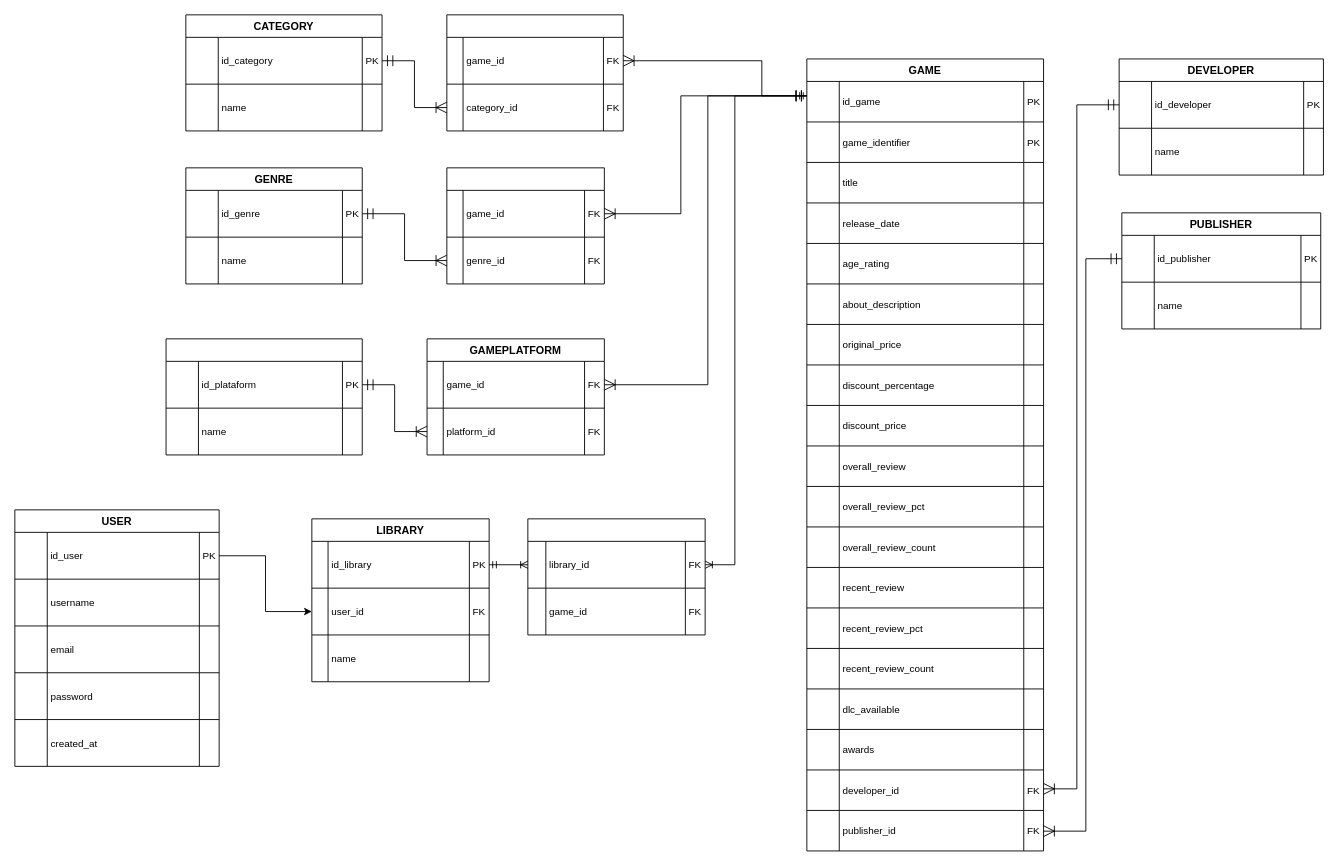
The diagram is 1338 pixels wide and 866 high, and some of its shapes have lost their labels. Here are the shapes that lost their labels. From the top down, the box of each, then its label:
(446, 14, 623, 131): GAMECATEGORY
(446, 167, 604, 284): GAMEGENRE
(165, 338, 362, 455): PLATFORM
(527, 518, 705, 635): LIBRARY_GAME
